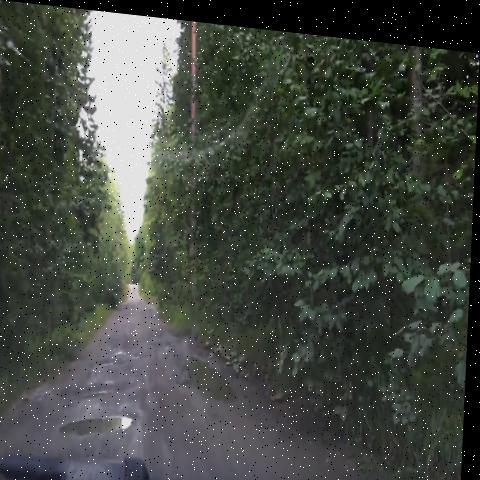pothole: (176, 335, 251, 415), (54, 401, 149, 447), (75, 377, 123, 410), (95, 347, 127, 375), (113, 337, 139, 365), (159, 334, 183, 354)
